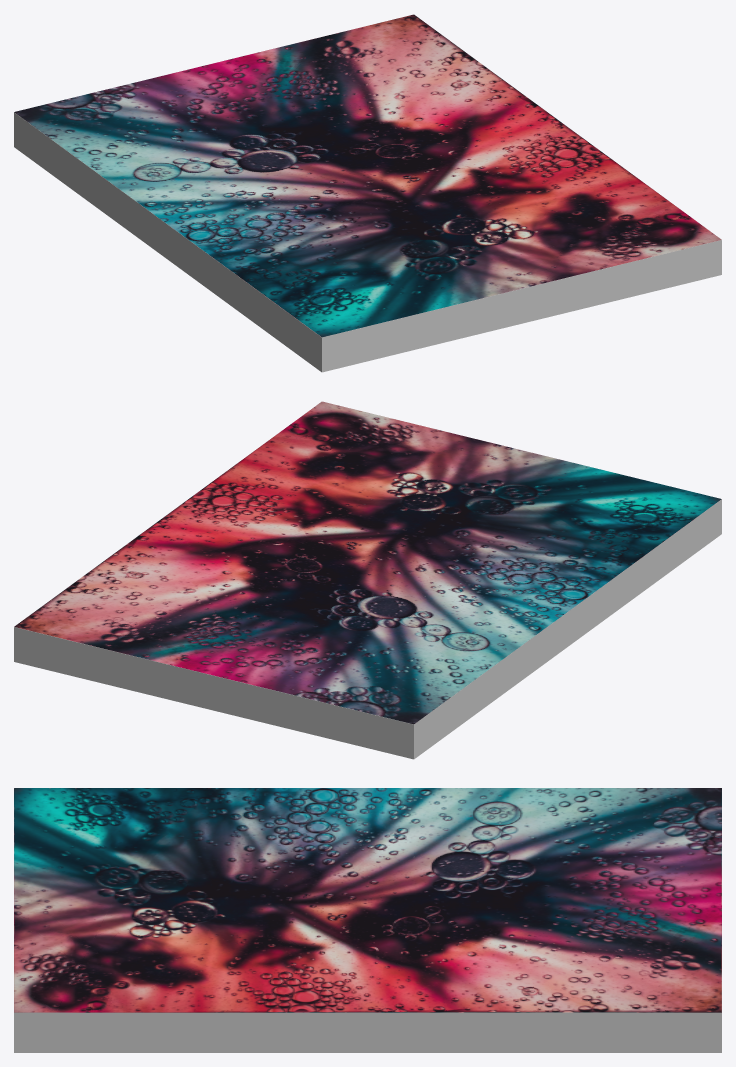
The model's file is screen4.glb.
3 renders of one model, top to bottom at view 1: azimuth 30°, elevation 25°; view 2: azimuth 150°, elevation 25°; view 3: azimuth 270°, elevation 25°, orthographic. The views are drawn at different scales.
Parts seen in each view (by area): view 1: Cube.003, Cube.054, Plane.025, Plane, Plane.008, Plane.039, Plane.011, Plane.017, Plane.016, Plane.057, Plane.009, Plane.024 (+60 smaller); view 2: Plane.025, Cube.045, Plane, Plane.008, Plane.039, Plane.011, Plane.017, Plane.016, Plane.057, Plane.024, Plane.009, Plane.020 (+61 smaller); view 3: Cube.004, Cube.024, Cube.048, Plane.025, Plane, Plane.008, Plane.011, Plane.039, Plane.017, Cube.011, Plane.016, Plane.024 (+54 smaller).
Boxes of the visible parts, x1,y1,x2,y2 form: Cube.003: [306, 311, 431, 372]; Cube.054: [544, 253, 665, 318]; Plane.025: [445, 244, 573, 296]; Plane: [359, 14, 436, 86]; Plane.008: [338, 178, 461, 231]; Plane.039: [259, 73, 367, 113]; Plane.011: [422, 73, 533, 121]; Plane.017: [369, 116, 495, 164]; Plane.016: [432, 119, 544, 169]; Plane.057: [220, 46, 309, 104]; Plane.009: [192, 135, 337, 178]; Plane.024: [507, 119, 616, 168]; Plane.025: [405, 445, 552, 491]; Cube.045: [283, 692, 369, 748]; Plane: [14, 608, 185, 640]; Plane.008: [352, 520, 463, 572]; Plane.039: [160, 596, 275, 640]; Plane.011: [94, 539, 210, 583]; Plane.017: [188, 544, 333, 575]; Plane.016: [182, 521, 313, 545]; Plane.057: [146, 638, 281, 666]; Plane.024: [157, 478, 266, 521]; Plane.009: [328, 573, 429, 633]; Plane.020: [424, 461, 503, 520]; Cube.004: [92, 1012, 254, 1052]; Cube.024: [255, 1012, 392, 1052]; Cube.048: [539, 1012, 668, 1052]; Plane.025: [14, 882, 121, 947]; Plane: [579, 950, 721, 1012]; Plane.008: [212, 884, 378, 930]; Plane.011: [444, 969, 538, 1012]; Plane.039: [521, 895, 630, 957]; Plane.017: [358, 910, 444, 986]; Cube.011: [446, 1012, 538, 1052]; Plane.016: [312, 933, 427, 1001]; Plane.024: [255, 969, 391, 1012].
Bounding box in the file's own units: 24 × 2.01 × 32.
2 materials, 1 textured.
